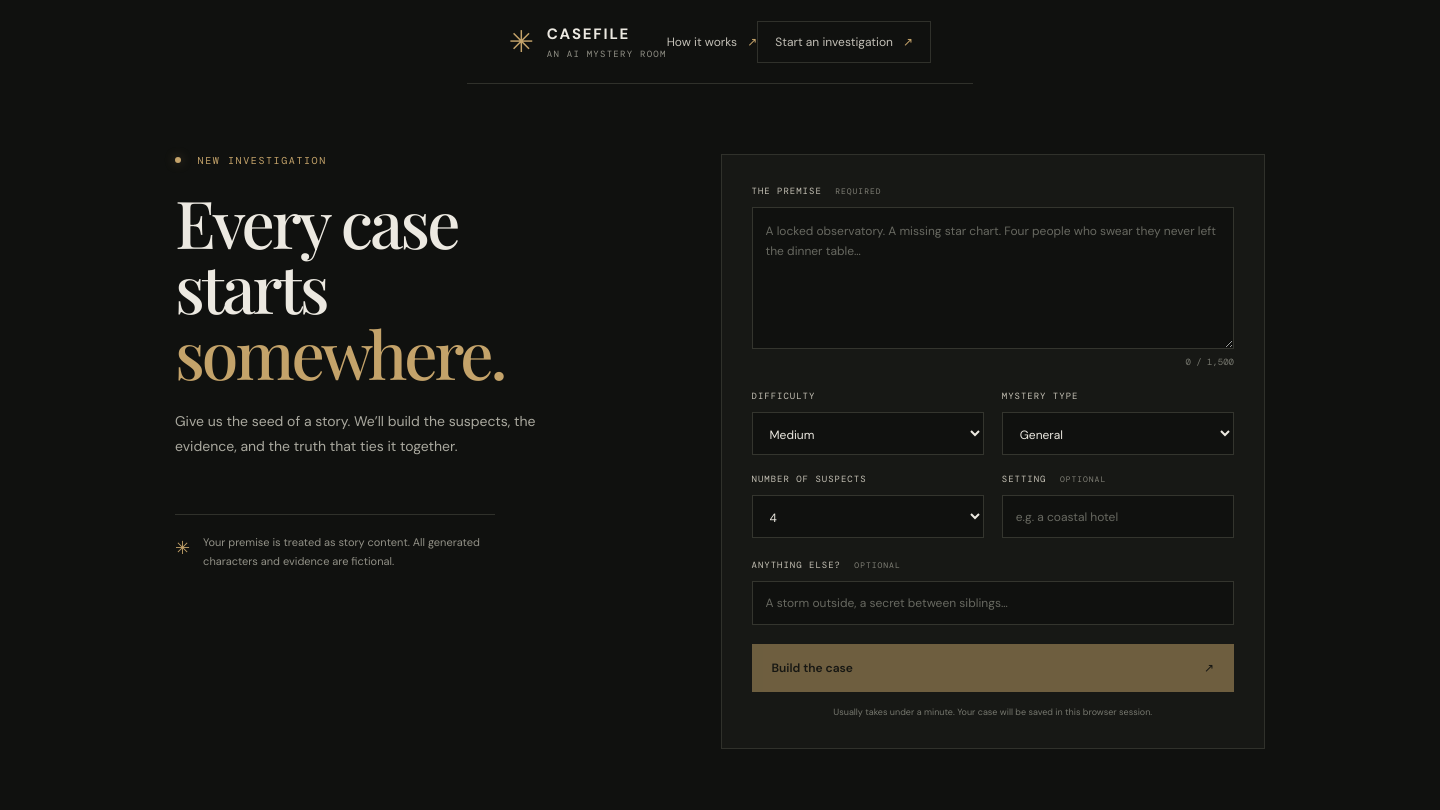
Scenario: mystery room navigation and creation › keeps case generation disabled until the premise reaches 20 characters
The width and height of the screenshot is (1440, 810).
Expected: the button "Build the case ↗" is disabled, top-left (752, 644), bottom-right (1234, 692)
Replace the text in the text box labelled "THE PREMISE REQUIRED" with "A painting disappears during a storm.": (993, 278) top-left (752, 207), bottom-right (1234, 349)
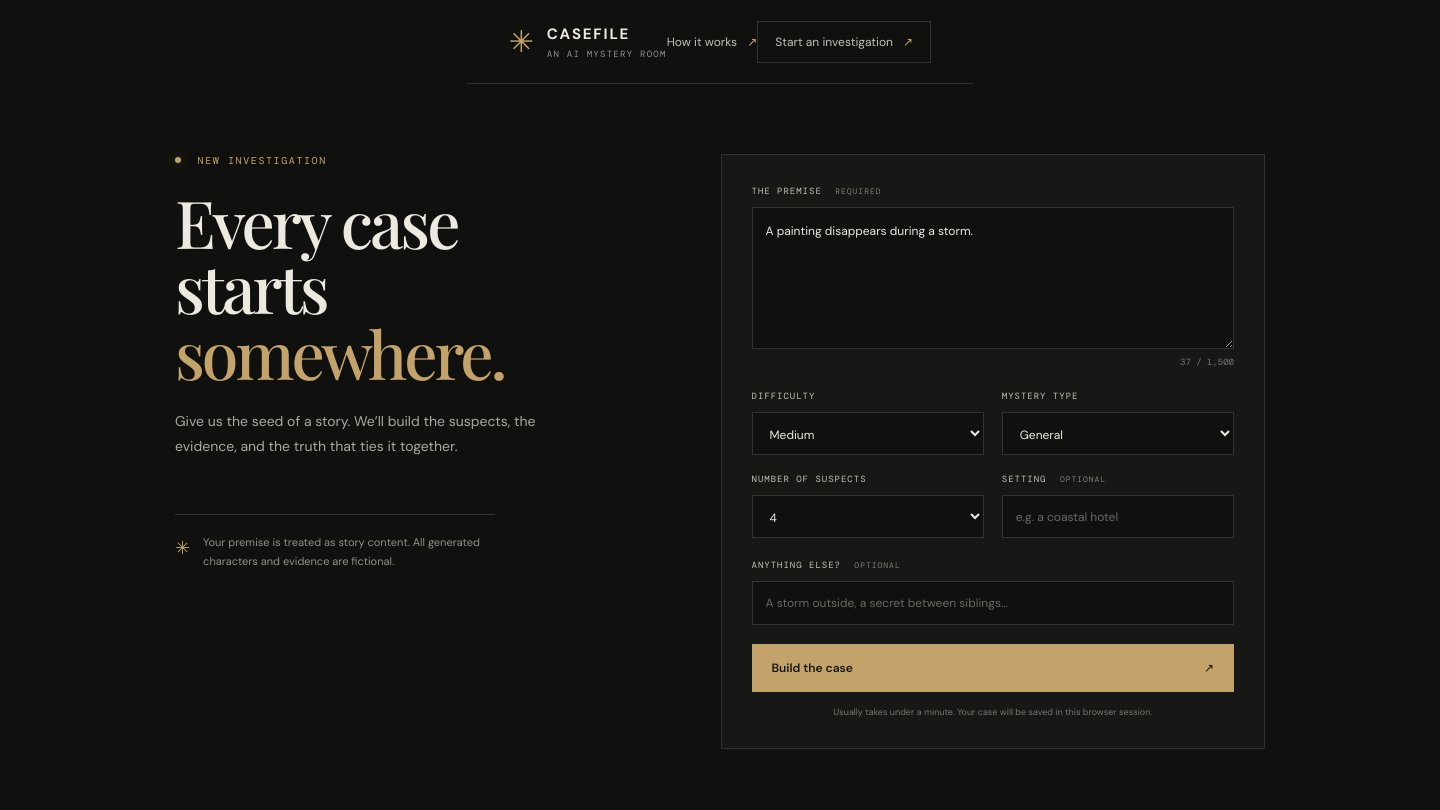
Expected: the button "Build the case ↗" is enabled, top-left (752, 644), bottom-right (1234, 692)
